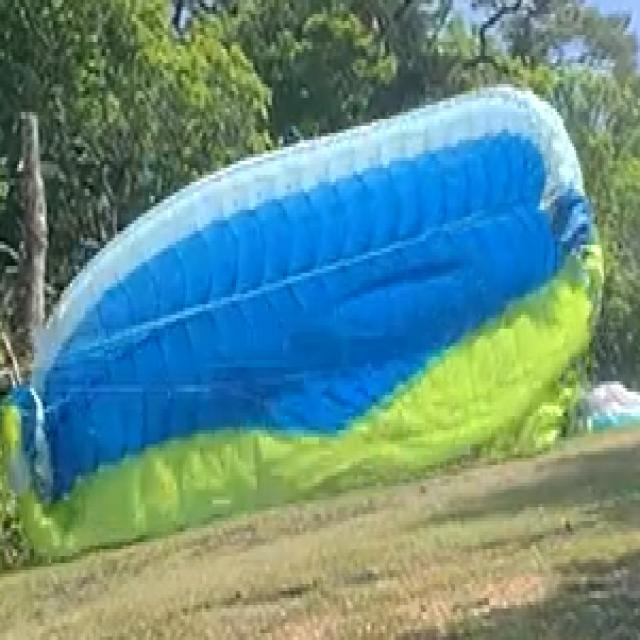paraglider: (0, 80, 604, 560)
